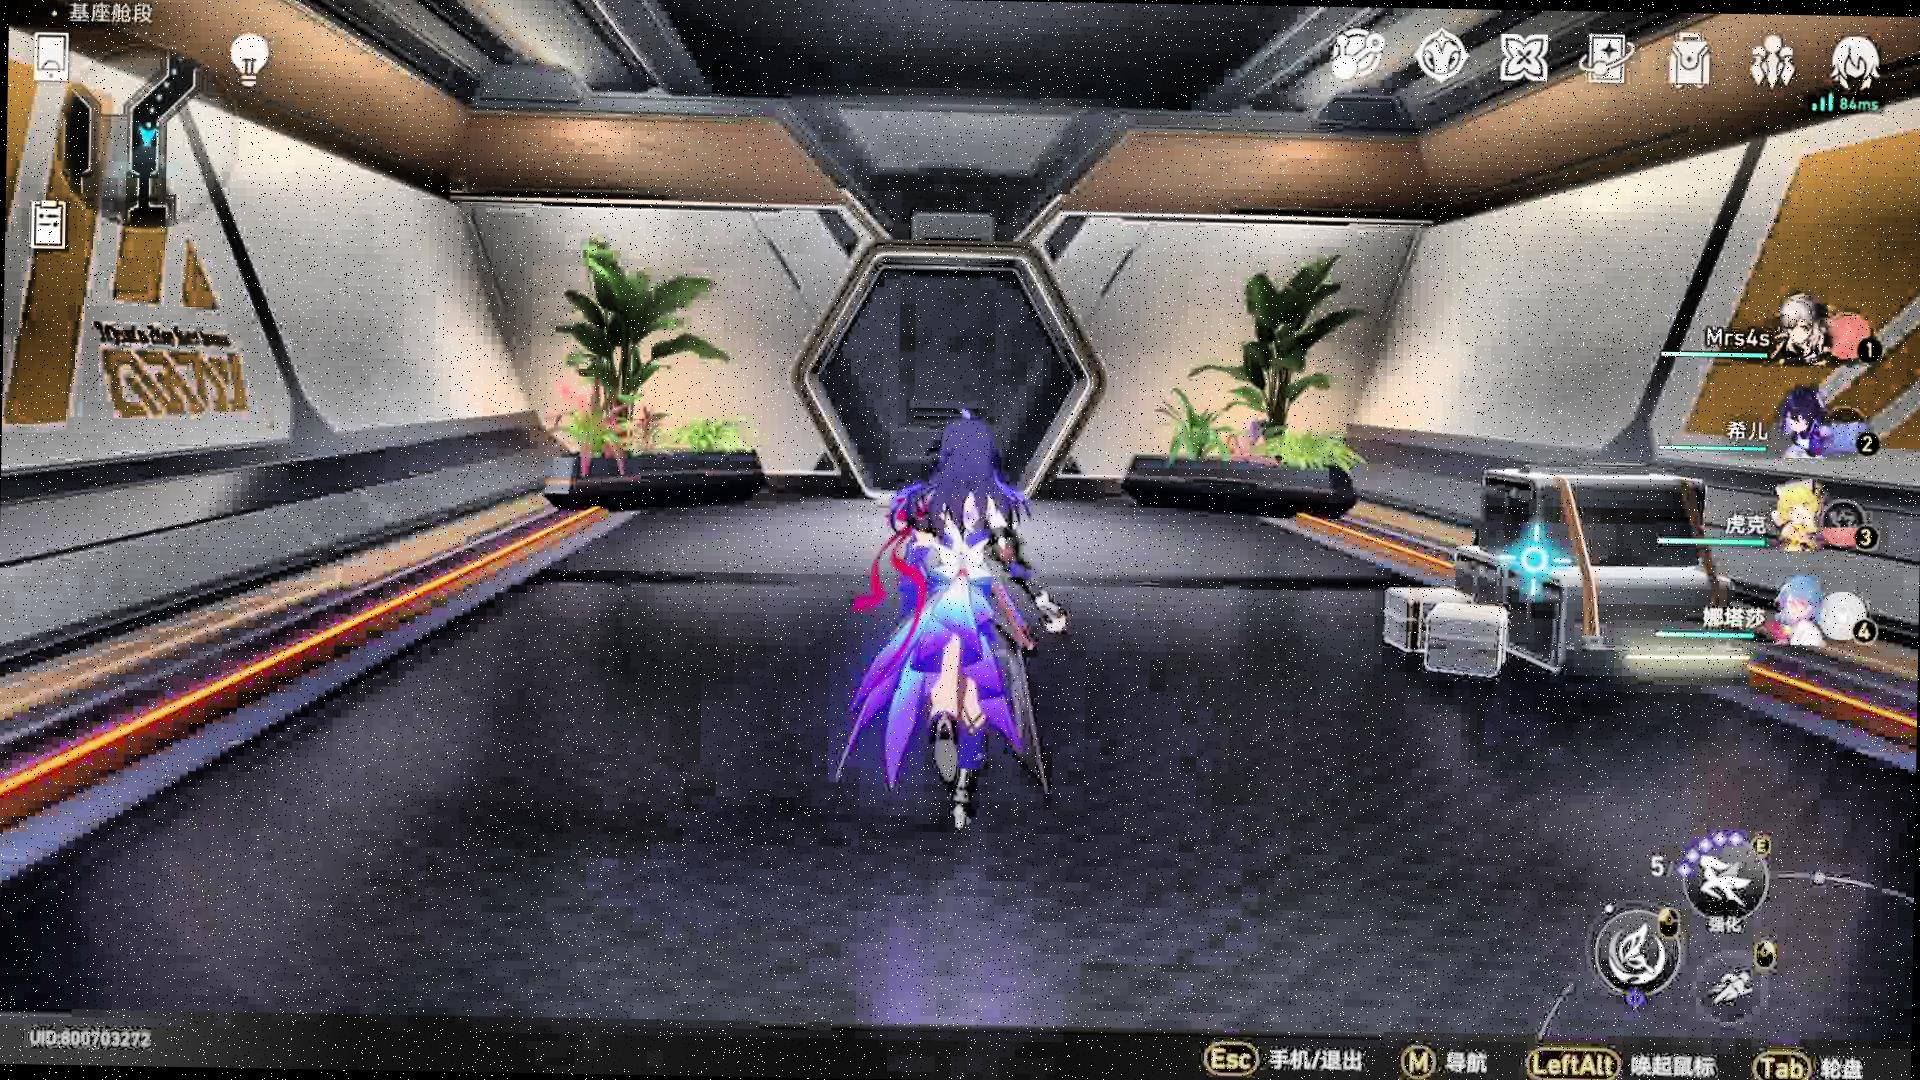Box: (1383, 463, 1745, 688)
Self: (836, 418, 1073, 839)
